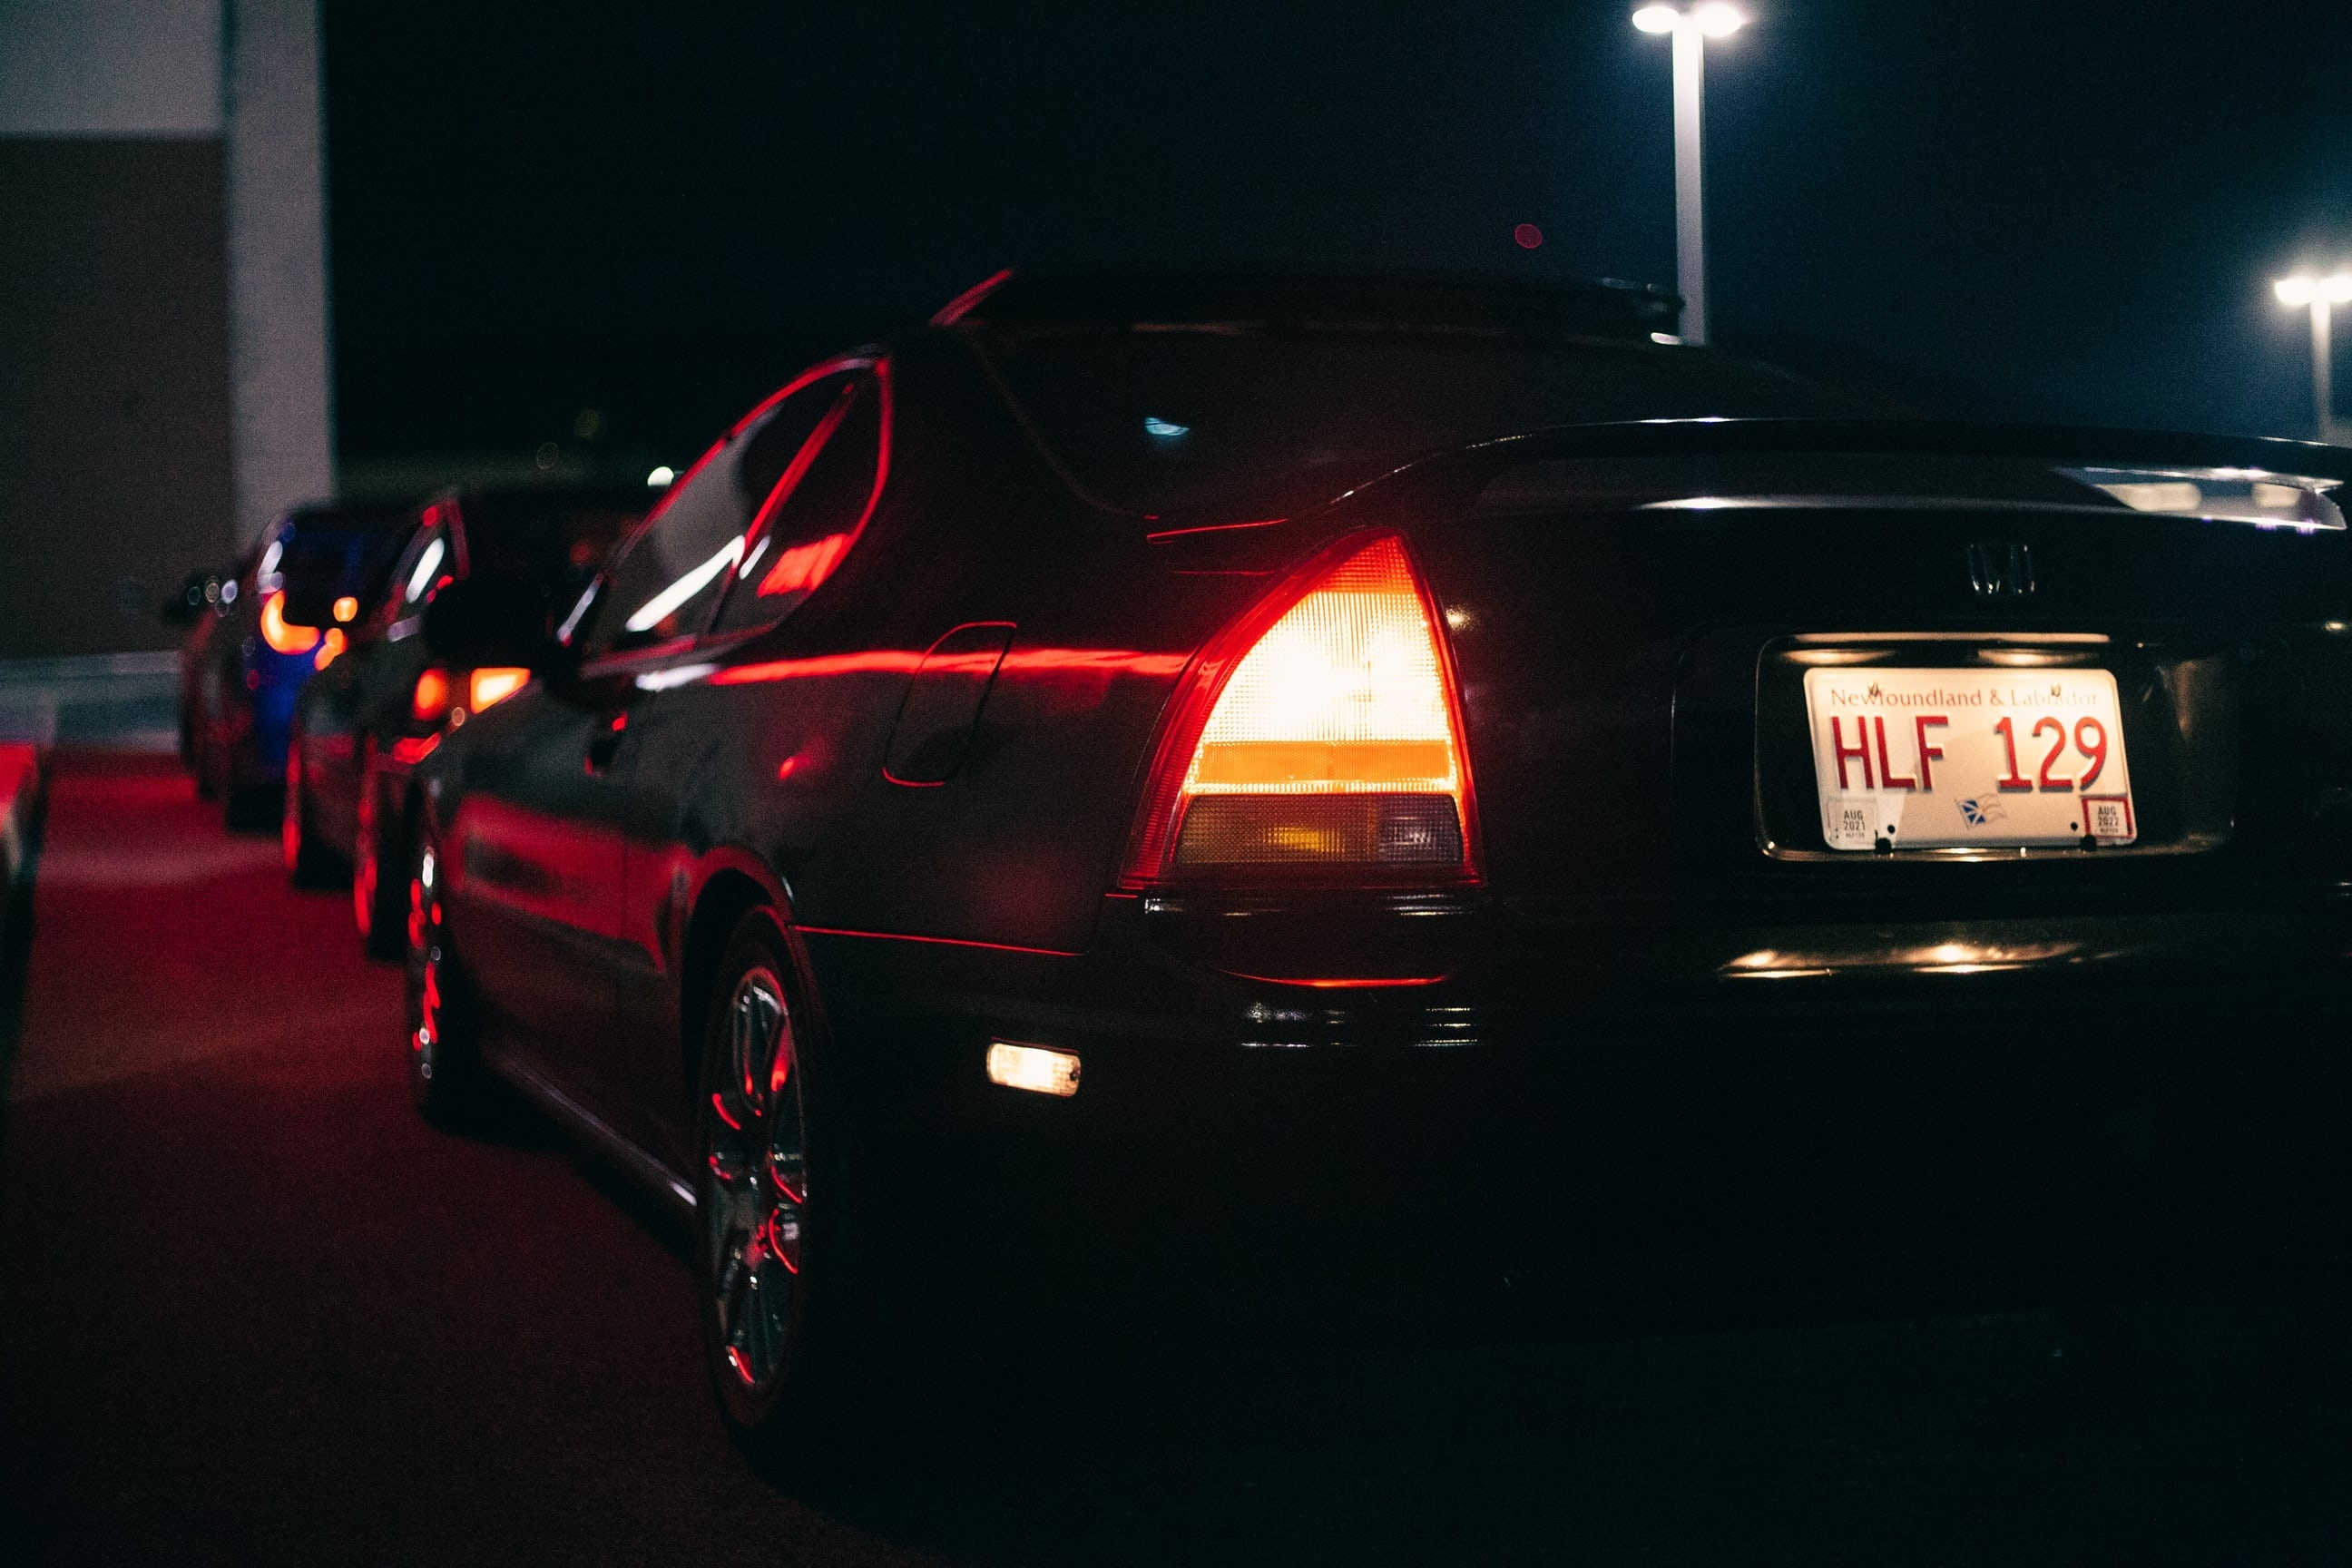plaka: (1797, 661, 2136, 853)
